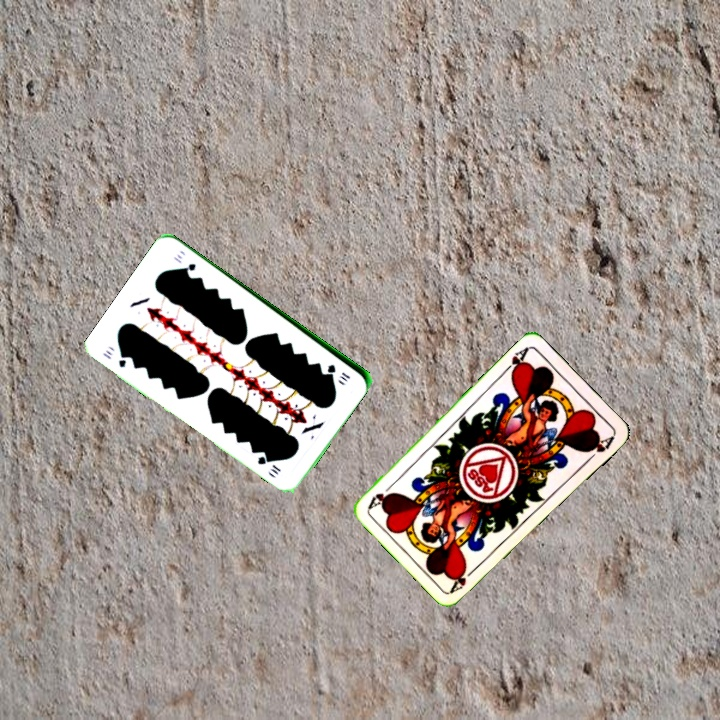G10: (99, 346, 129, 370), (324, 360, 353, 384)
HA: (499, 343, 531, 379), (447, 562, 480, 595)
